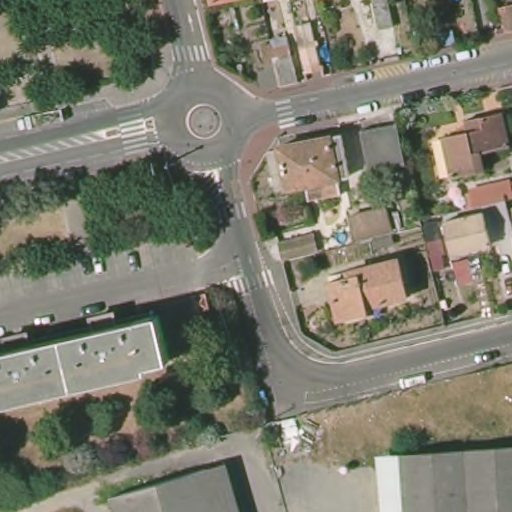pool: (314, 40, 337, 65), (331, 228, 351, 246)
